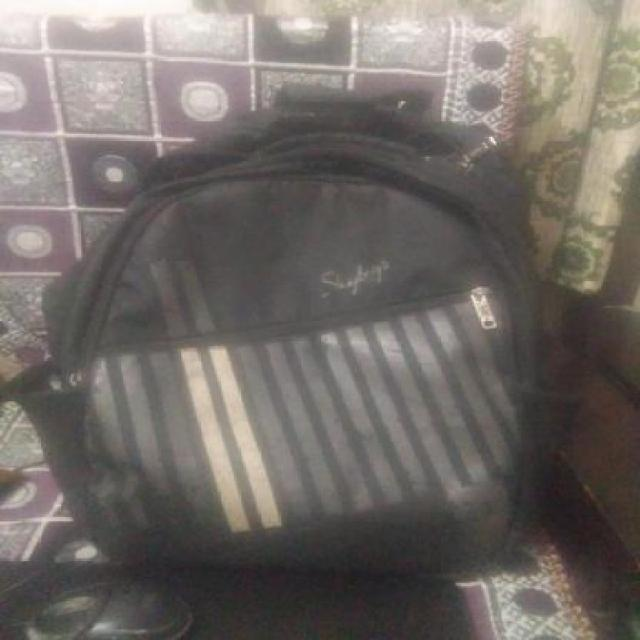backpack: (0, 77, 583, 586)
